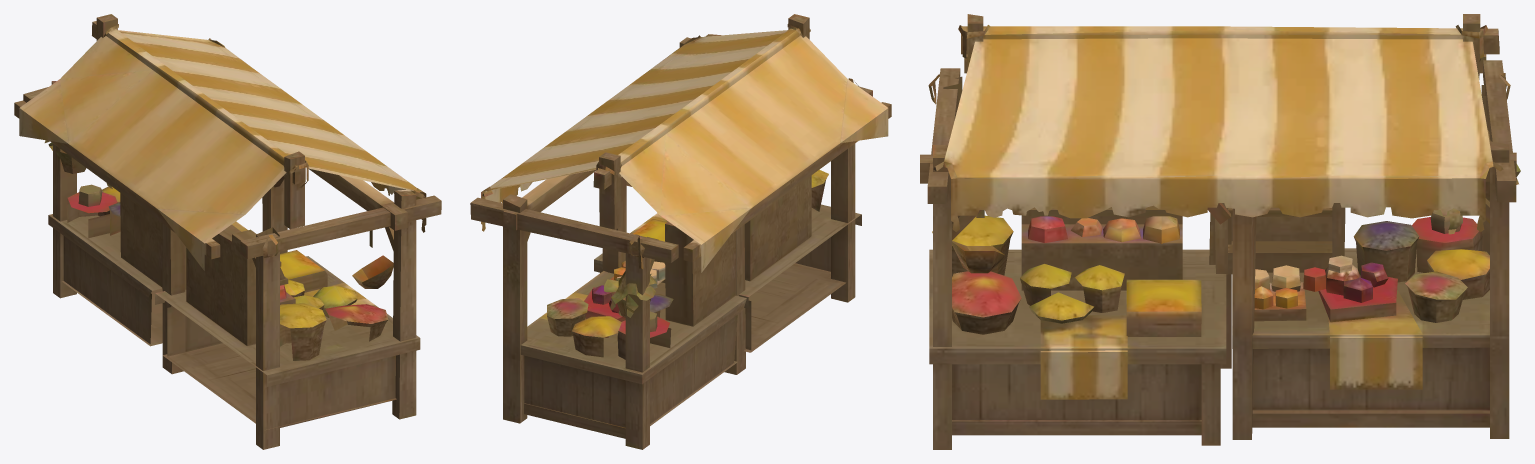
File: village_market.glb
3 views of the same model, side by side, from view 1: azimuth 30°, elevation 25°; view 2: azimuth 150°, elevation 25°; view 3: azimuth 270°, elevation 25° (orthographic). The views are drawn at different scales.
Parts seen in each view (by area): view 1: tripo_node_d4267317-397a-4246-808d-618e60d56e05; view 2: tripo_node_d4267317-397a-4246-808d-618e60d56e05; view 3: tripo_node_d4267317-397a-4246-808d-618e60d56e05.
Part boxes in pixels (x1,y1,x2,y2): tripo_node_d4267317-397a-4246-808d-618e60d56e05: (14, 14, 441, 449); tripo_node_d4267317-397a-4246-808d-618e60d56e05: (470, 14, 891, 449); tripo_node_d4267317-397a-4246-808d-618e60d56e05: (920, 14, 1520, 449).
Bounding box in the file's own units: 0.5555 × 0.6688 × 1.
1 material, 1 textured.
